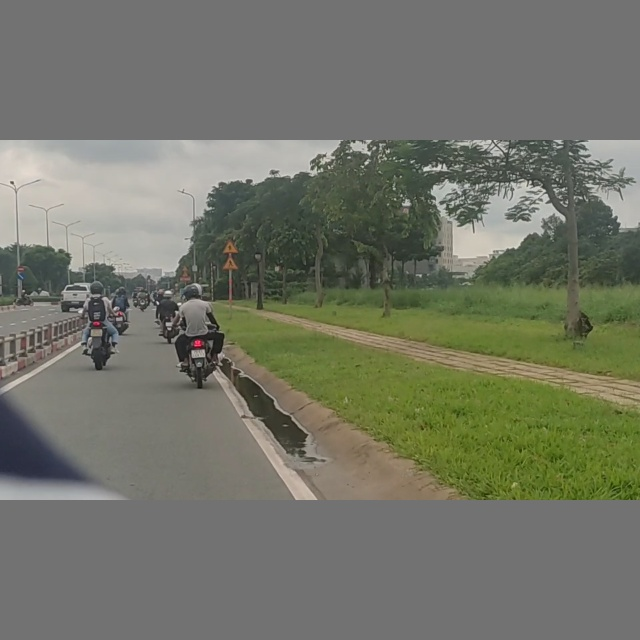P.102: (17, 265, 25, 272)
R.302a: (17, 273, 25, 280)
W.207: (223, 239, 239, 254)
W.224: (221, 256, 239, 270)
